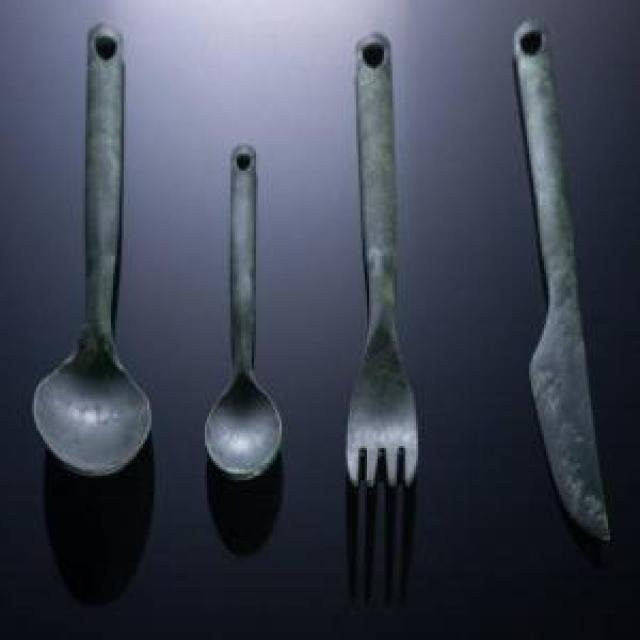knife: (510, 17, 616, 557)
